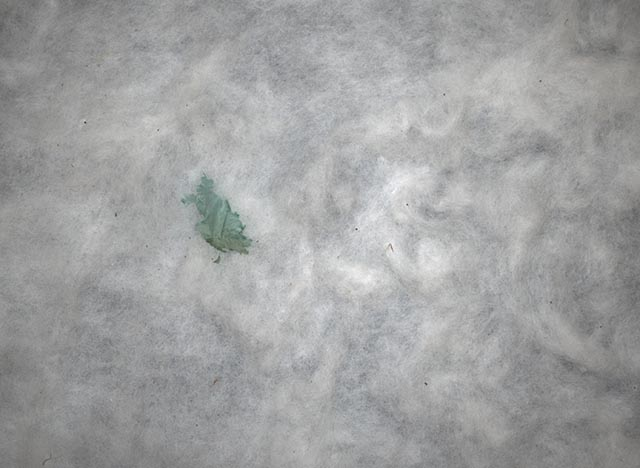plastic film: (180, 169, 253, 265)
